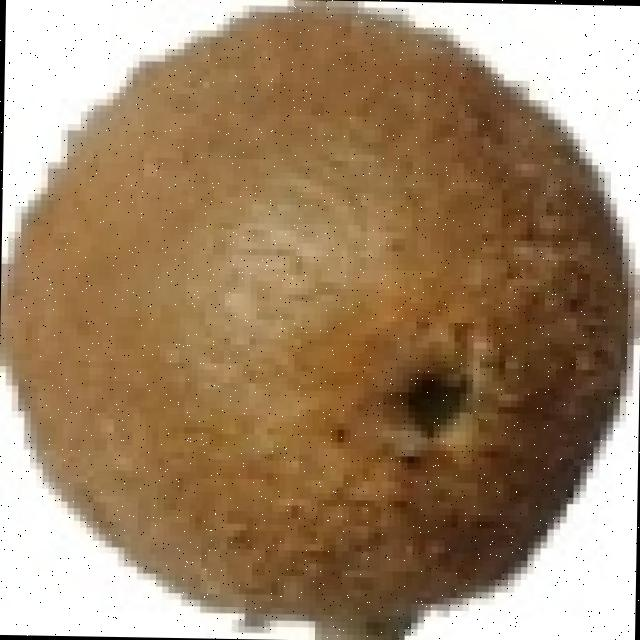kiwi: (10, 7, 618, 636)
